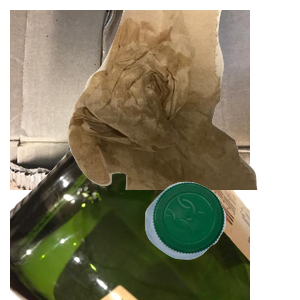cardboard: (10, 10, 250, 190)
glass: (10, 120, 250, 300)
plastic: (142, 179, 300, 300)
trash: (65, 10, 300, 190)
